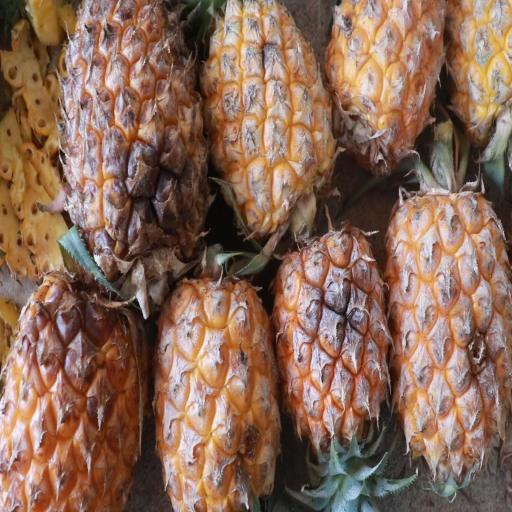Pineapple - v8 v1: (58, 0, 211, 279), (382, 178, 507, 497), (1, 247, 152, 511), (148, 245, 280, 512), (200, 2, 336, 234), (269, 217, 387, 455), (326, 4, 444, 176)
